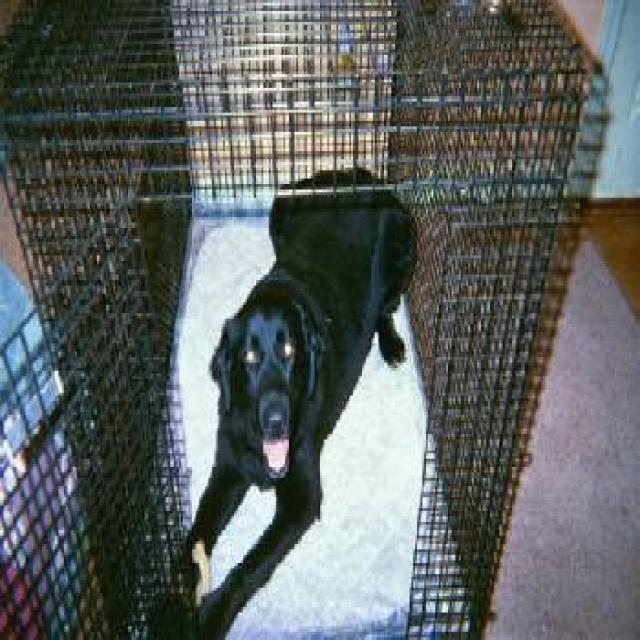Dogs: (174, 165, 417, 637)
